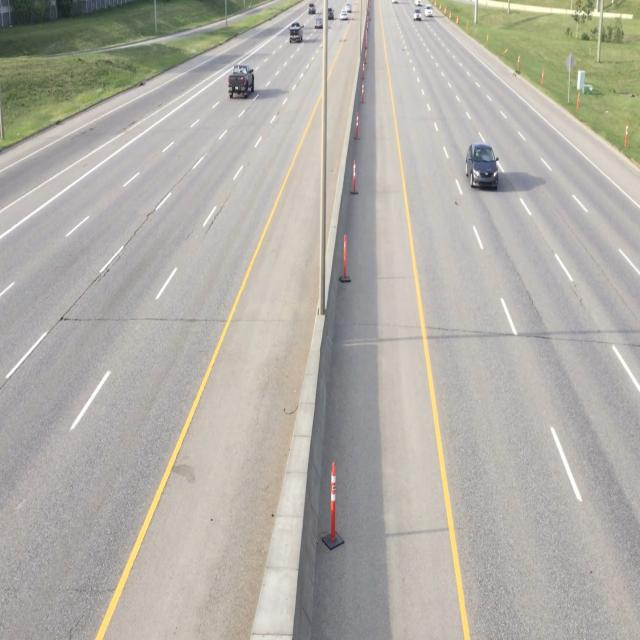Car: (463, 139, 499, 194), (226, 61, 256, 101), (286, 19, 302, 45)
